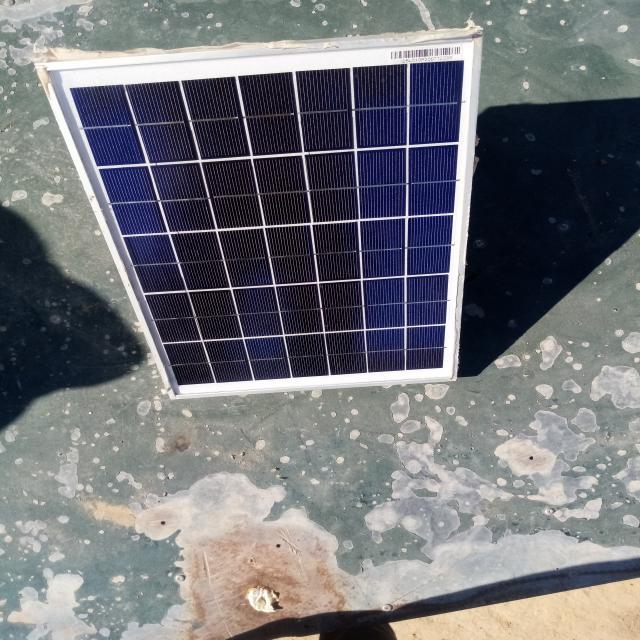no faulty: (39, 34, 478, 400)
